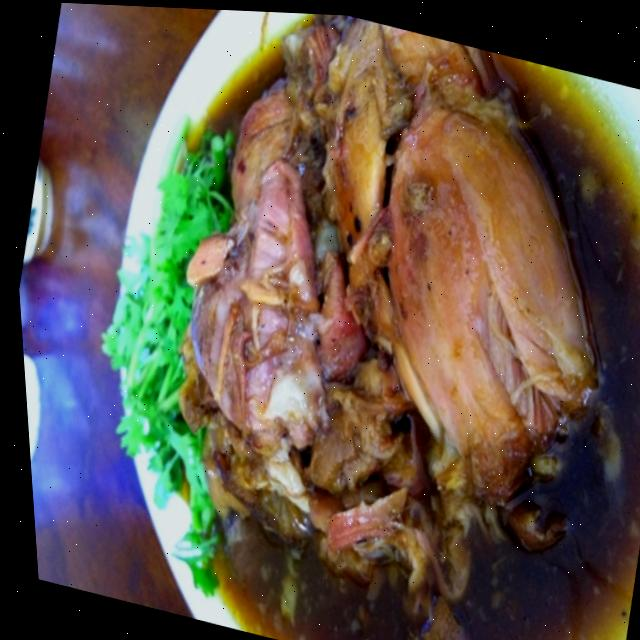猪肉菜式: (47, 2, 640, 640)
